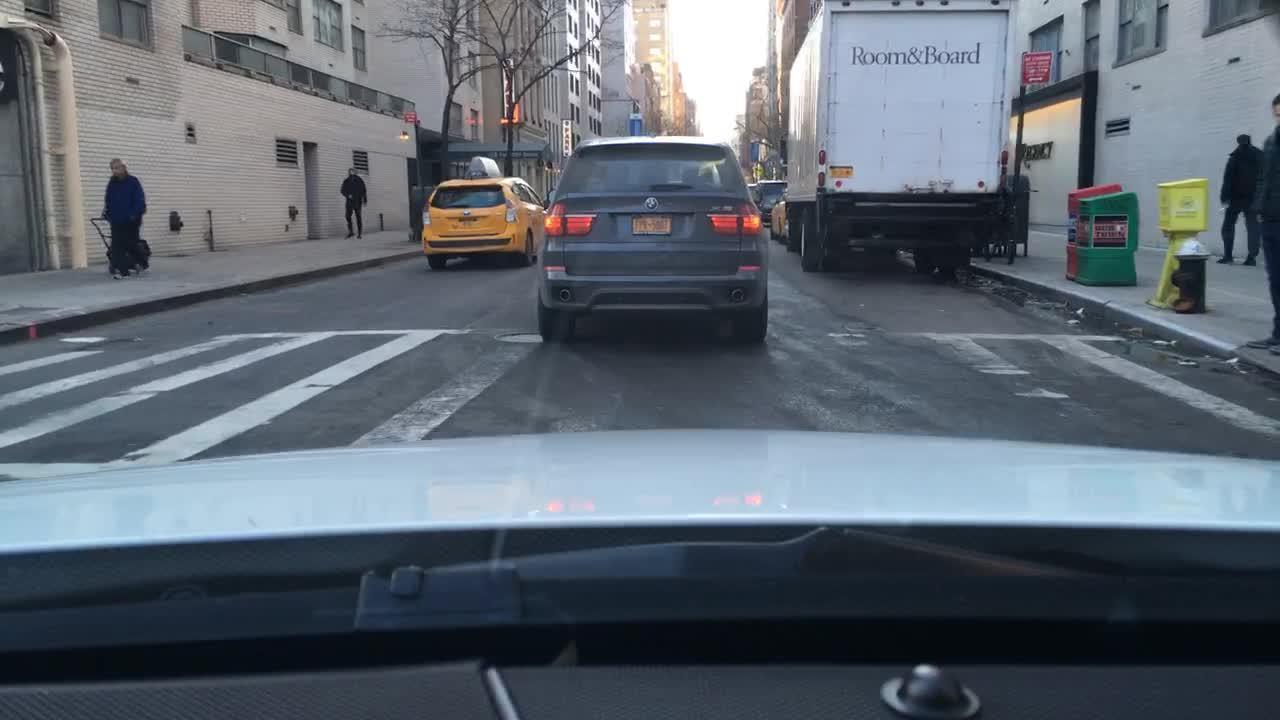bmw: (636, 194, 667, 216)
